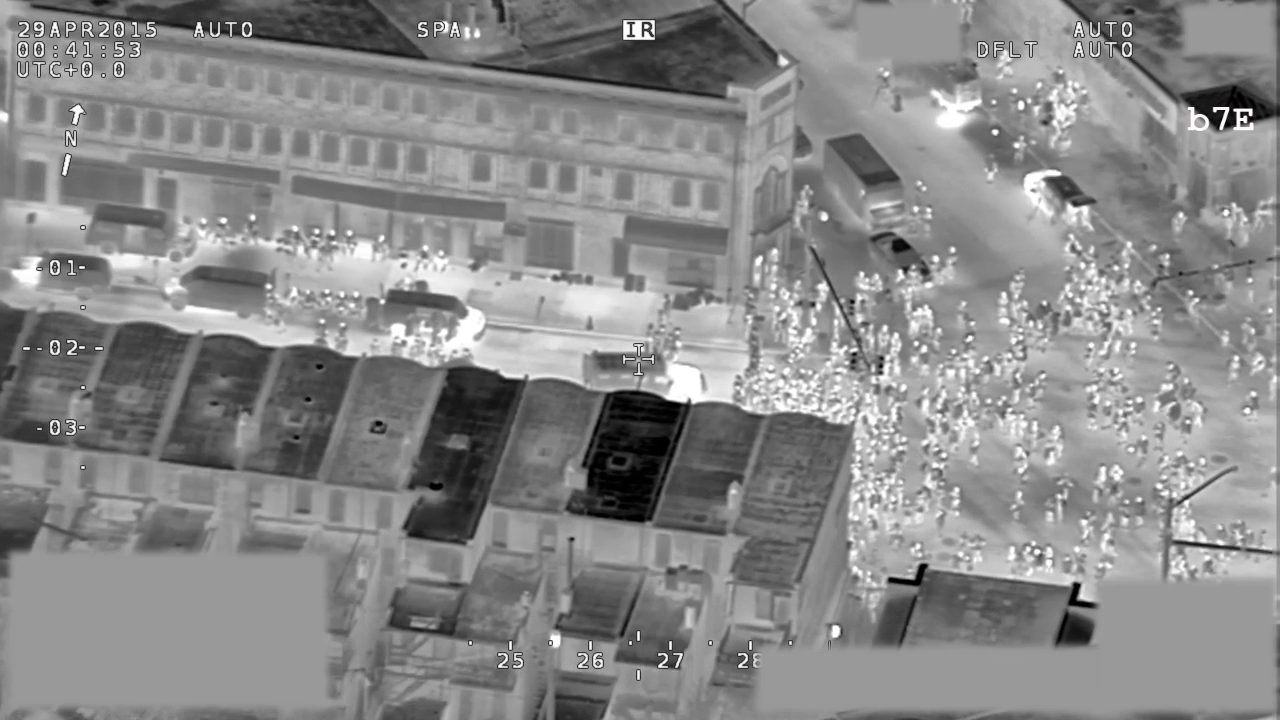vehicle: (820, 129, 916, 232), (381, 289, 496, 352), (580, 349, 713, 402), (160, 260, 273, 322), (84, 204, 198, 262), (9, 252, 115, 307), (1014, 164, 1100, 231), (869, 230, 938, 292)
